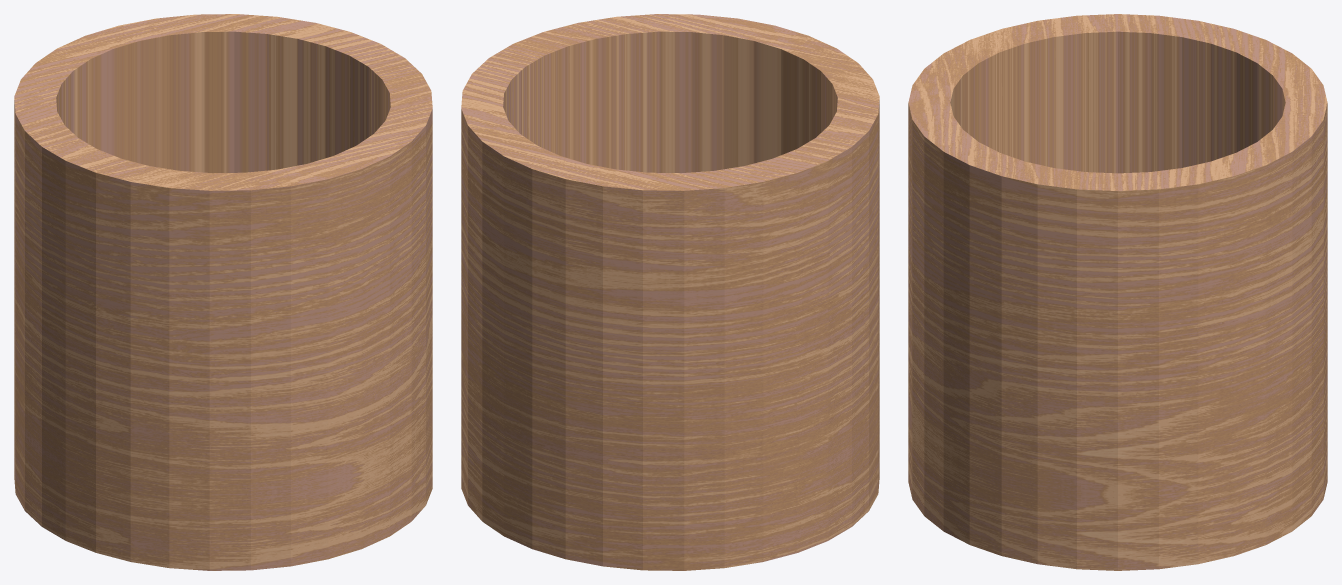
Rendered from cup.gltf.
3 renders of one model, left to right at view 1: azimuth 30°, elevation 25°; view 2: azimuth 150°, elevation 25°; view 3: azimuth 270°, elevation 25°, orthographic.
Parts seen in each view (by area): view 1: Cylinder; view 2: Cylinder; view 3: Cylinder.
Part boxes in pixels (<box>): Cylinder: <box>14,14,432,570</box>; Cylinder: <box>461,14,879,570</box>; Cylinder: <box>908,14,1327,570</box>.
Size of the model in its own units: 2 by 2 by 2.
Materials: 1 (1 with a texture image).
